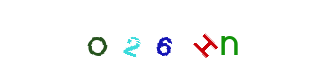0: (104, 0, 184, 80)
2: (122, 0, 202, 80)
6: (124, 0, 204, 80)
H: (127, 0, 207, 80)
N: (165, 0, 245, 80)
